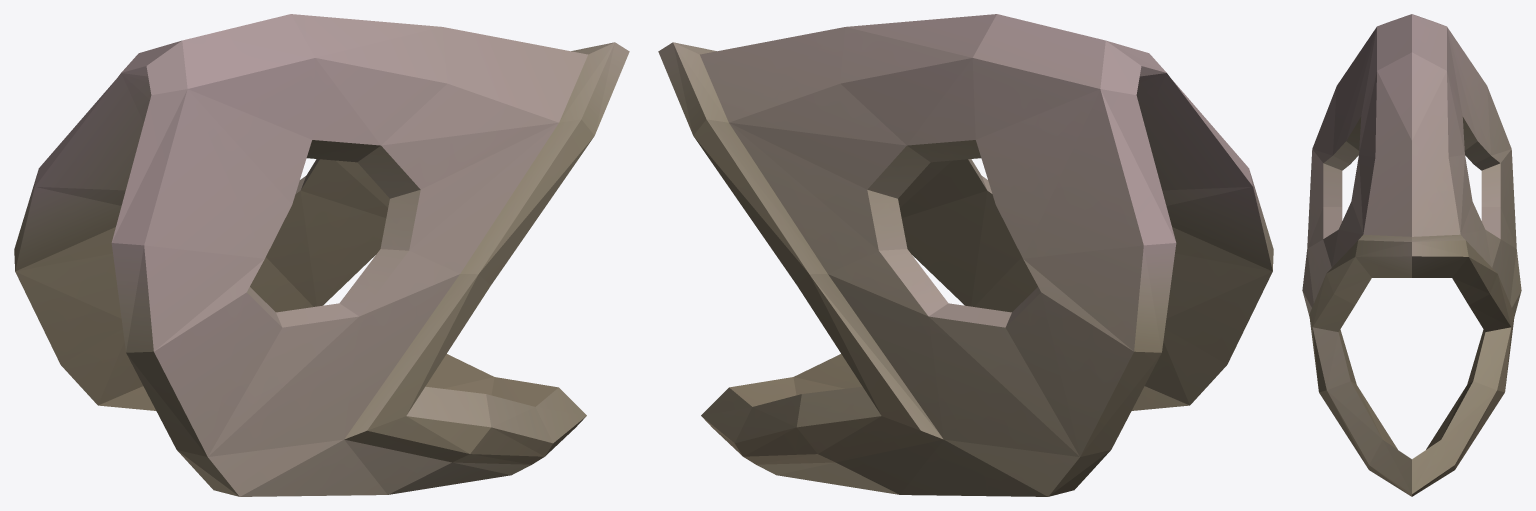
Rendered from bone_01.FBX.
3 views of the same model, side by side, from view 1: azimuth 30°, elevation 25°; view 2: azimuth 150°, elevation 25°; view 3: azimuth 270°, elevation 25° (orthographic). The views are drawn at different scales.
Parts seen in each view (by area): view 1: bone_01; view 2: bone_01; view 3: bone_01.
Part boxes in pixels (<box>): bone_01: <box>14,14,629,496</box>; bone_01: <box>658,14,1273,496</box>; bone_01: <box>1302,14,1521,496</box>.
Bounding box in the file's own units: 1.87 × 1.6 × 0.8902.
Materials: 1 (1 with a texture image).
